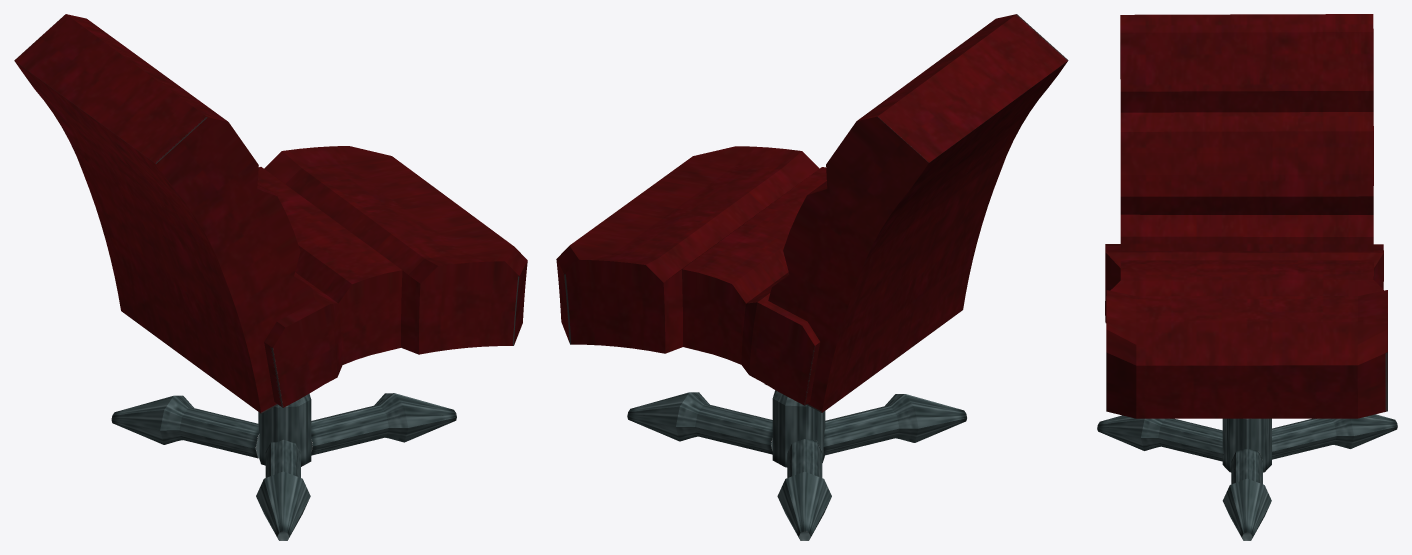
The model's file is office_chair.fbx.
3 views of the same model, side by side, from view 1: azimuth 30°, elevation 25°; view 2: azimuth 150°, elevation 25°; view 3: azimuth 270°, elevation 25° (orthographic). The views are drawn at different scales.
Visible parts, largest first — view 1: Cylinder.002; view 2: Cylinder.002; view 3: Cylinder.002.
Part boxes in pixels (left/top/right/bottom): Cylinder.002: left=14, top=14, right=527, bottom=540; Cylinder.002: left=556, top=14, right=1068, bottom=540; Cylinder.002: left=1097, top=14, right=1397, bottom=540.
Bounding box in the file's own units: 251 × 272 × 190.
Materials: 2 (2 with a texture image).
